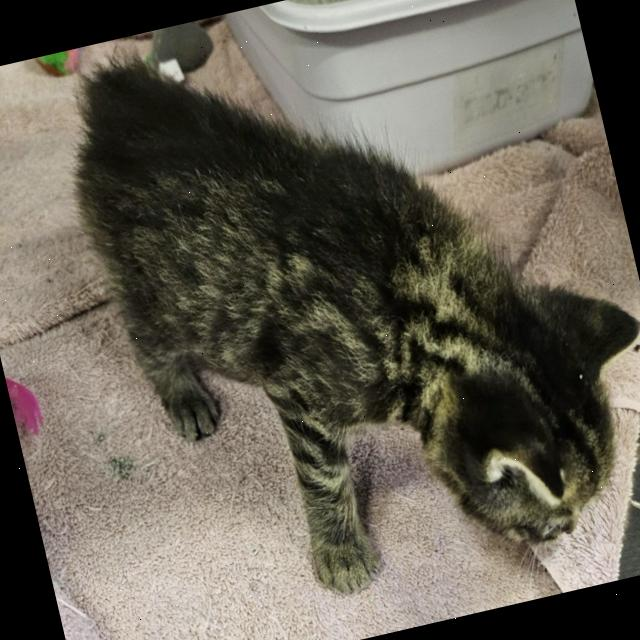manx_cat: (367, 223, 640, 581)
